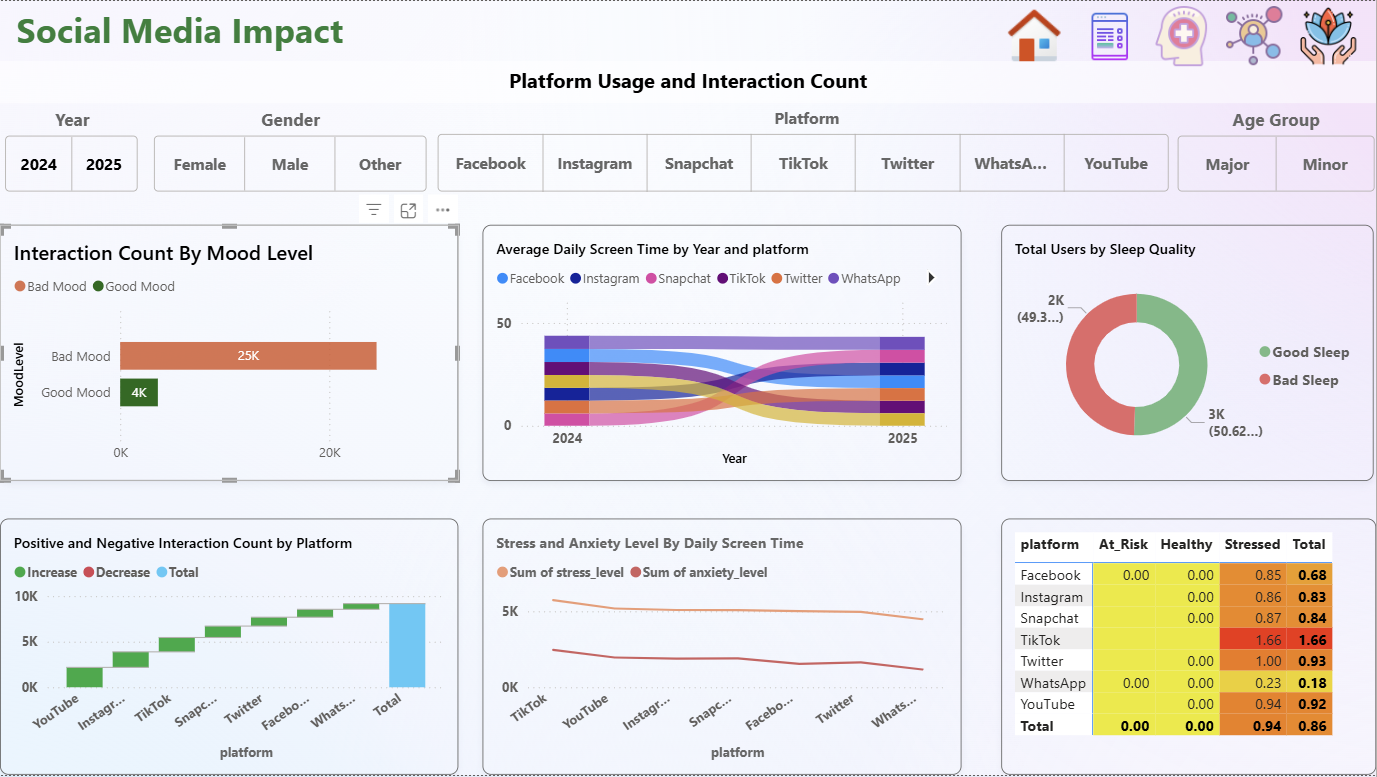

What the dashboard file says about the page in this screenshot:
{"tool":"powerbi","page":{"name":"Social Media Impact","canvas":[1280,720],"ordinal":3},"visuals":[{"type":"textbox","box":[10.5,0,983.7,55.8],"z":0},{"type":"image","box":[932.6,5.9,59.3,55.8],"z":0,"group":"g1"},{"type":"image","box":[1064,4.7,69.8,55.8],"z":1000,"group":"g1"},{"type":"lineChart","title":"Stress and Anxiety Level By Daily Screen Time","fields":{"Category":["mental_health_social_media_dataset.platform"],"Y":["Sum(mental_health_social_media_dataset.stress_level)","Sum(mental_health_social_media_dataset.anxiety_level)"]},"box":[448.8,481.4,445.4,238.4],"z":1000},{"type":"image","box":[1131.4,4.7,67.4,55.8],"z":2000,"group":"g1"},{"type":"waterfallChart","title":"Positive and Negative Interaction Count by Platform","fields":{"Category":["mental_health_social_media_dataset.platform"],"Y":["Sum(mental_health_social_media_dataset.positive_interactions_count)"]},"box":[0,481.4,426.7,238.4],"z":2000},{"type":"image","box":[1198.9,4.7,73.3,55.8],"z":3000,"group":"g1"},{"type":"barChart","title":"Interaction Count By Mood Level","fields":{"Category":["mental_health_social_media_dataset.MoodLevel"],"Series":["mental_health_social_media_dataset.MoodLevel"],"Y":["Sum(mental_health_social_media_dataset.mood_level)"]},"box":[0,208.1,426.7,238.4],"z":3000},{"type":"advancedSlicerVisual","title":"Gender","fields":{"Values":["mental_health_social_media_dataset.gender"]},"box":[138.4,98.8,264,83.7],"z":4000},{"type":"advancedSlicerVisual","fields":{"Values":["mental_health_social_media_dataset.Age Group"]},"box":[1090.7,98.8,193,83.7],"z":5000},{"type":"advancedSlicerVisual","fields":{"Values":["mental_health_social_media_dataset.date.Variation.Date Hierarchy.Year"]},"box":[0,98.8,134.9,83.7],"z":6000},{"type":"ribbonChart","fields":{"Category":["mental_health_social_media_dataset.date.Variation.Date Hierarchy.Year"],"Series":["mental_health_social_media_dataset.platform"],"Y":["mental_health_social_media_dataset.Average Daily Screen Time"]},"box":[448.8,208.1,445.4,238.4],"z":7000},{"type":"textbox","box":[0,55.8,1280.2,39.5],"z":8000},{"type":"pivotTable","fields":{"Columns":["mental_health_social_media_dataset.mental_state"],"Rows":["mental_health_social_media_dataset.platform"],"Values":["mental_health_social_media_dataset.Average Negative Interaction"]},"box":[931.4,481.4,348.8,238.4],"z":9000},{"type":"image","box":[1001.2,5.9,62.8,54.7],"z":9012,"group":"g1"},{"type":"donutChart","fields":{"Category":["mental_health_social_media_dataset.Sleep Quality"],"Y":["mental_health_social_media_dataset.Total Users"]},"box":[931.4,208.1,346.5,238.4],"z":10000},{"type":"advancedSlicerVisual","title":"Platform","fields":{"Values":["mental_health_social_media_dataset.platform"]},"box":[402.3,98.8,696.5,83.7],"z":11000},{"type":"group","id":"g1","title":"Group 1","box":[932.6,4.7,339.5,57],"z":12000}]}

Visuals, with their boxes in screenshot pixels (x1, y1, x2, y2), scaled from the page's 1280x720 canvas onto the 1377x777 screenshot:
textbox: detection(11, 0, 1070, 60)
image: detection(1003, 6, 1067, 67)
image: detection(1145, 5, 1220, 65)
"Stress and Anxiety Level By Daily Screen Time" lineChart: detection(483, 520, 962, 776)
image: detection(1217, 5, 1290, 65)
"Positive and Negative Interaction Count by Platform" waterfallChart: detection(0, 520, 459, 776)
image: detection(1290, 5, 1369, 65)
"Interaction Count By Mood Level" barChart: detection(0, 225, 459, 482)
"Gender" advancedSlicerVisual: detection(149, 107, 433, 197)
advancedSlicerVisual - mental_health_social_media_dataset.Age Group: detection(1173, 107, 1376, 197)
advancedSlicerVisual - mental_health_social_media_dataset.date.Variation.Date Hierarchy.Year: detection(0, 107, 145, 197)
ribbonChart - mental_health_social_media_dataset.date.Variation.Date Hierarchy.Year x mental_health_social_media_dataset.platform: detection(483, 225, 962, 482)
textbox: detection(0, 60, 1376, 103)
pivotTable - mental_health_social_media_dataset.mental_state x mental_health_social_media_dataset.platform: detection(1002, 520, 1376, 776)
image: detection(1077, 6, 1145, 65)
donutChart - mental_health_social_media_dataset.Sleep Quality x mental_health_social_media_dataset.Total Users: detection(1002, 225, 1375, 482)
"Platform" advancedSlicerVisual: detection(433, 107, 1182, 197)
"Group 1" group: detection(1003, 5, 1369, 67)
